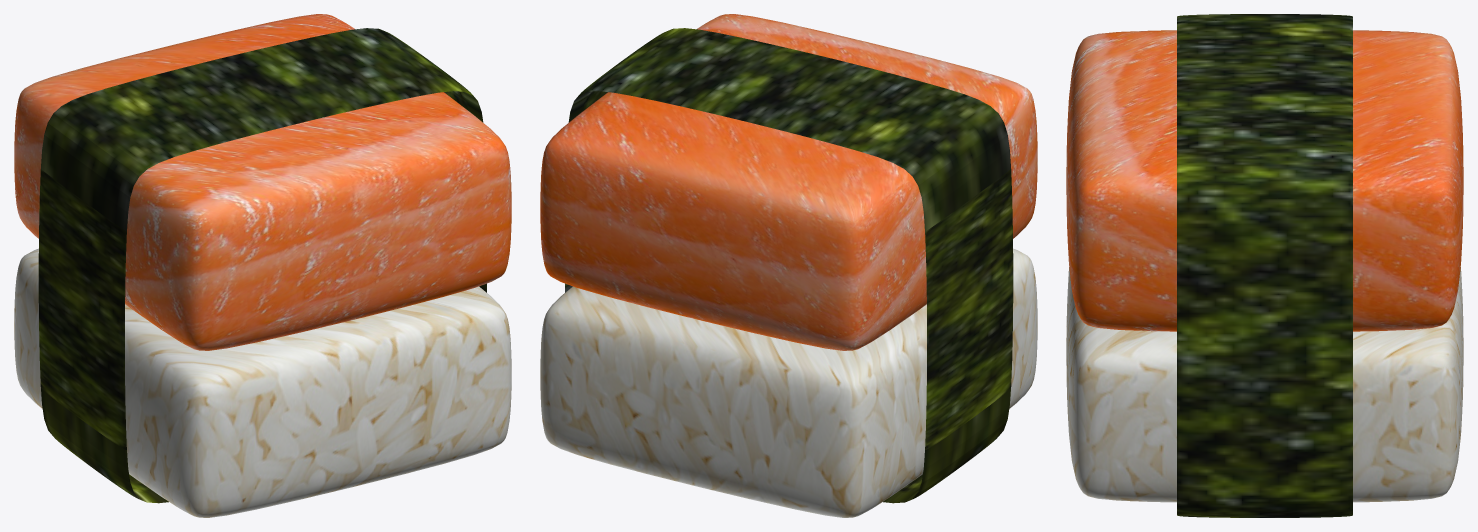
The model's file is sushi_cube.glb.
The picture shows the model from 3 angles, left to right: view 1: azimuth 30°, elevation 25°; view 2: azimuth 150°, elevation 25°; view 3: azimuth 270°, elevation 25°; orthographic projection. The views are drawn at different scales.
Visible parts, largest first — view 1: Cube.001, Cube, Cube.002; view 2: Cube.001, Cube, Cube.002; view 3: Cube.002, Cube.001, Cube.
Part boxes in pixels (left/top/right/bottom): Cube.001: left=14, top=14, right=511, bottom=350; Cube: left=14, top=248, right=511, bottom=517; Cube.002: left=38, top=28, right=486, bottom=503; Cube.001: left=540, top=14, right=1037, bottom=350; Cube: left=540, top=248, right=1037, bottom=517; Cube.002: left=565, top=28, right=1013, bottom=503; Cube.002: left=1177, top=14, right=1352, bottom=517; Cube.001: left=1066, top=30, right=1463, bottom=331; Cube: left=1066, top=267, right=1463, bottom=502.
Size of the model in its own units: 2.17 by 2.01 by 1.99.
3 materials, 3 textured.
